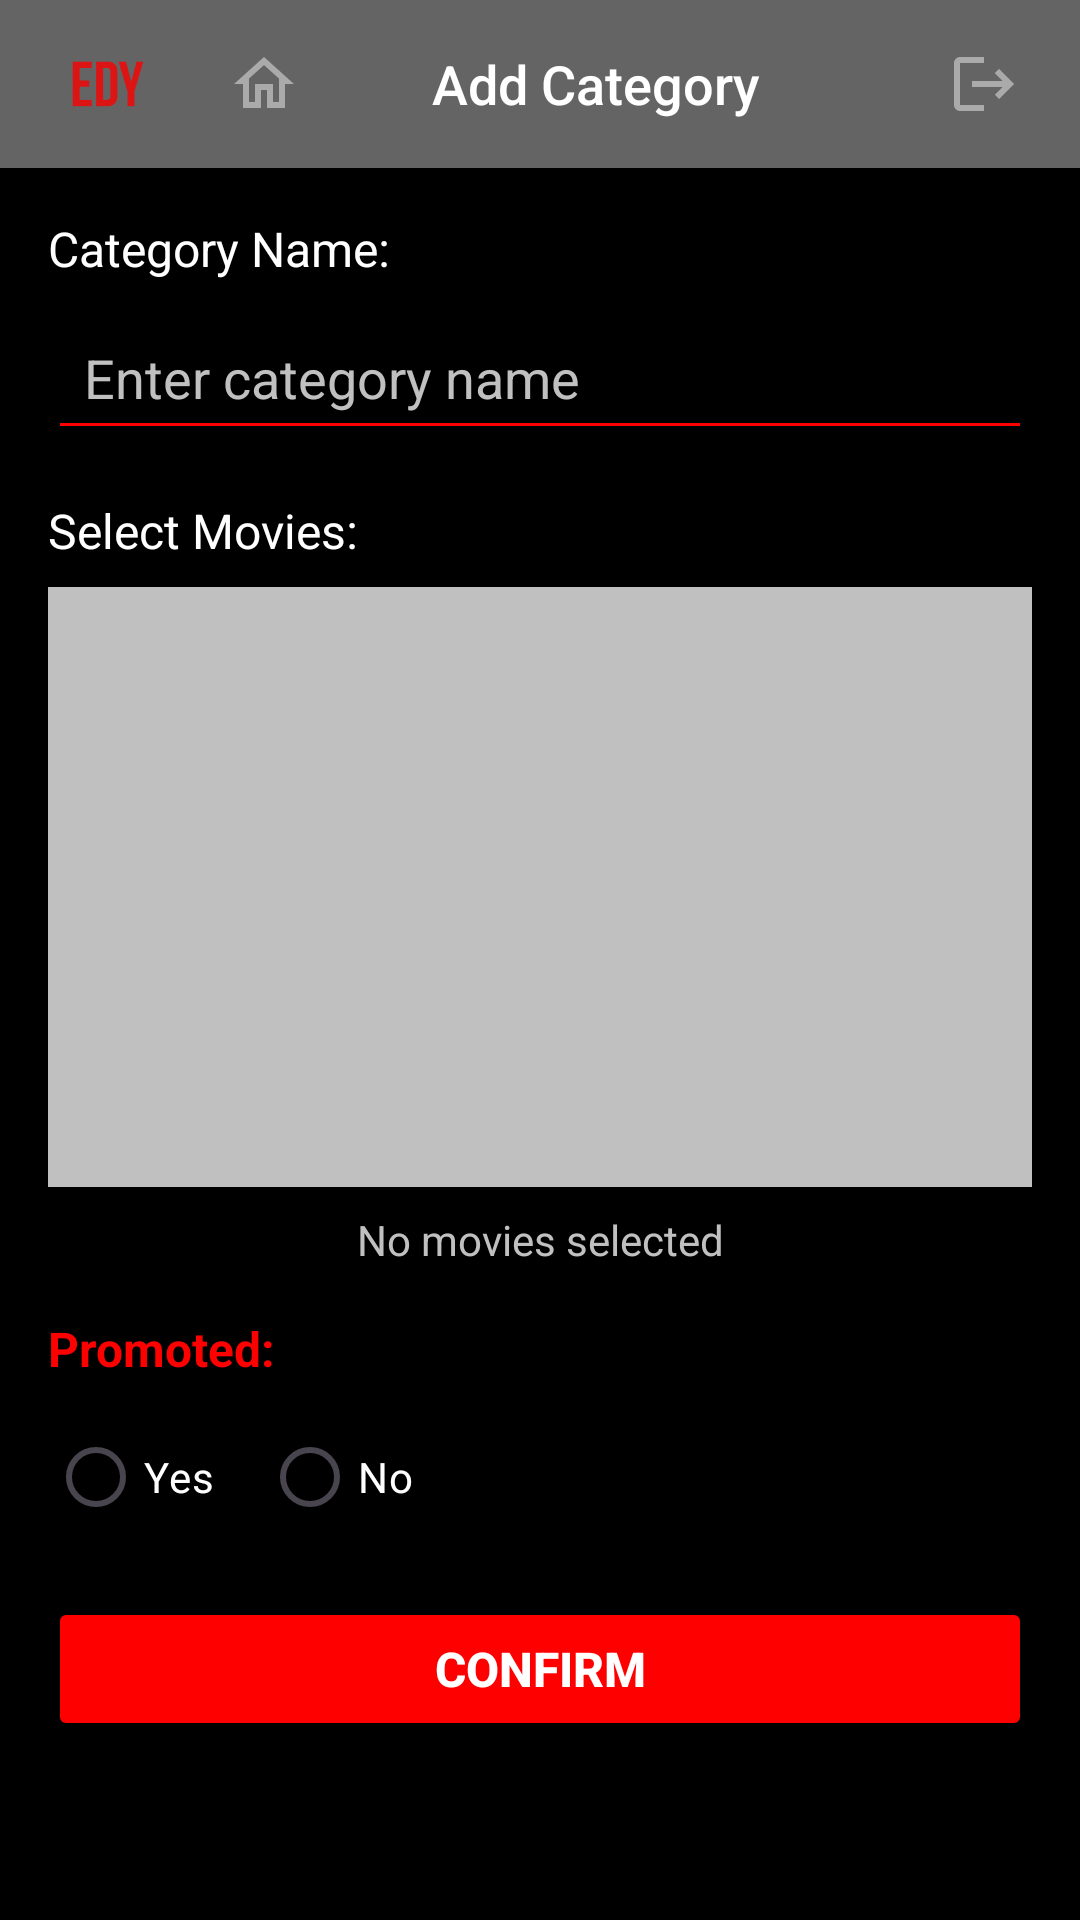

Icon bounding boxes for this 1080px×1920px phone screenshot, format (x1, y1, x2, y2):
Home Button: (234, 57, 294, 108)
